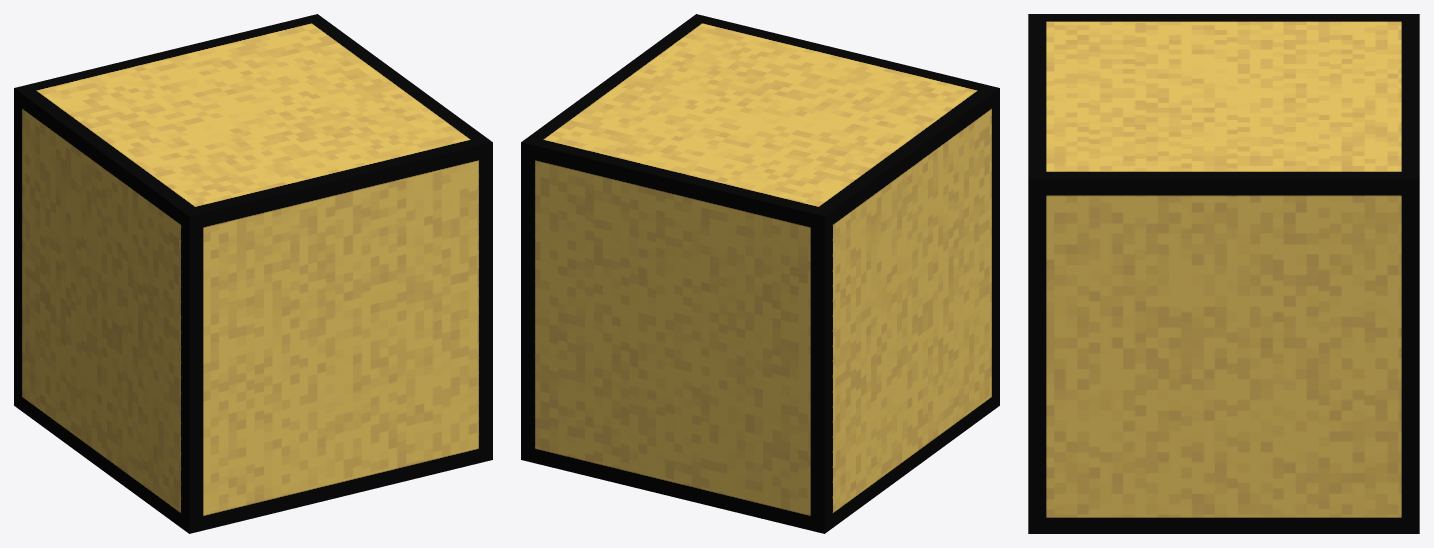
File: Sand_v2.glb
3 views of the same model, side by side, from view 1: azimuth 30°, elevation 25°; view 2: azimuth 150°, elevation 25°; view 3: azimuth 270°, elevation 25° (orthographic). The views are drawn at different scales.
Parts seen in each view (by area): view 1: Sand_v2Baked; view 2: Sand_v2Baked; view 3: Sand_v2Baked.
Part boxes in pixels (x1,y1,x2,y2): Sand_v2Baked: (14, 14, 492, 533); Sand_v2Baked: (521, 14, 999, 533); Sand_v2Baked: (1028, 14, 1419, 533).
Size of the model in its own units: 0.98 by 0.98 by 0.98.
Materials: 1 (1 with a texture image).
